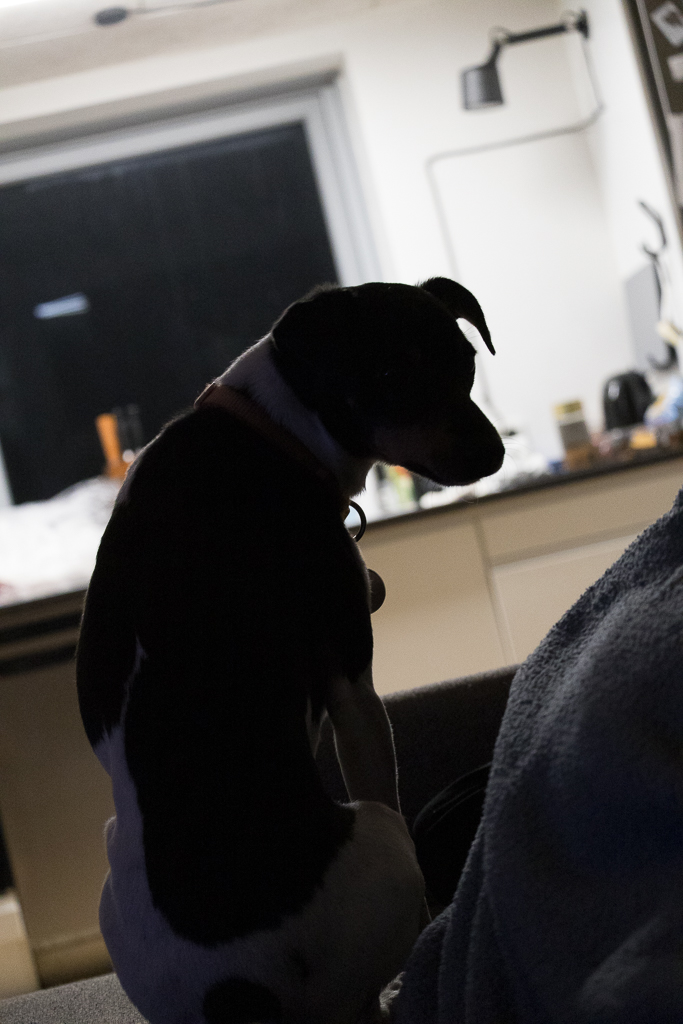Dog: (54, 271, 525, 1024)
